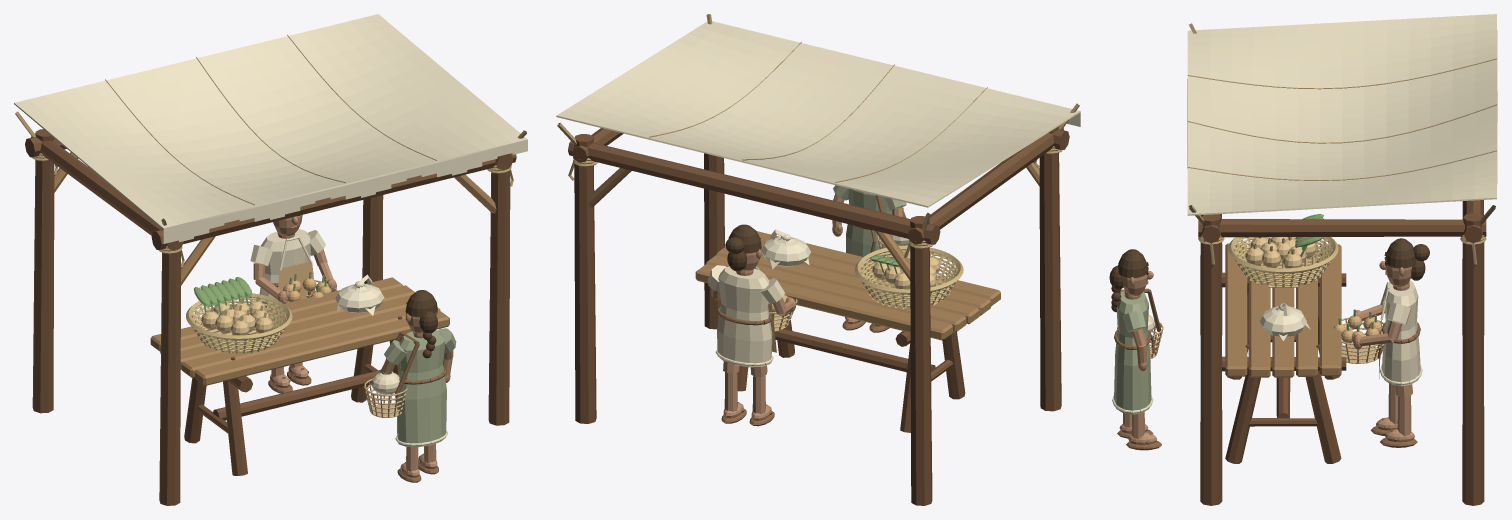
3 renders of one model, left to right at view 1: azimuth 30°, elevation 25°; view 2: azimuth 150°, elevation 25°; view 3: azimuth 270°, elevation 25°, orthographic. The views are drawn at different scales.
Parts seen in each view (by area): view 1: BA-0092 batched; view 2: BA-0092 batched; view 3: BA-0092 batched.
Boxes of the visible parts, x1,y1,x2,y2 form: BA-0092 batched: [14, 14, 527, 505]; BA-0092 batched: [556, 14, 1080, 505]; BA-0092 batched: [1109, 14, 1497, 505].
Bounding box in the file's own units: 3.33 × 2.66 × 2.96.
